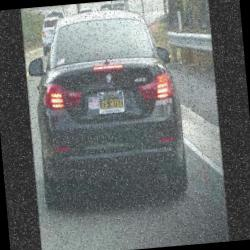LicensePlate: (96, 87, 128, 117)
